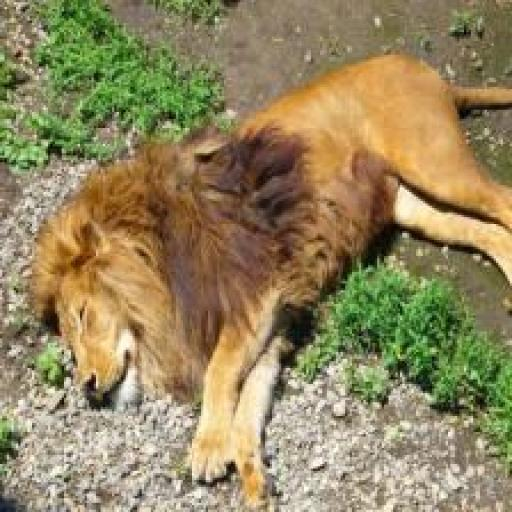lion: (16, 20, 509, 512)
